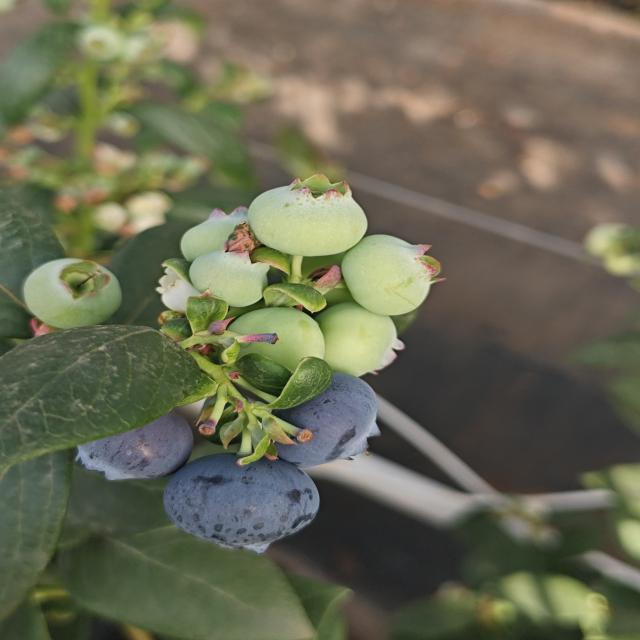ripe: (158, 456, 325, 556), (268, 366, 381, 476), (61, 405, 200, 480)
